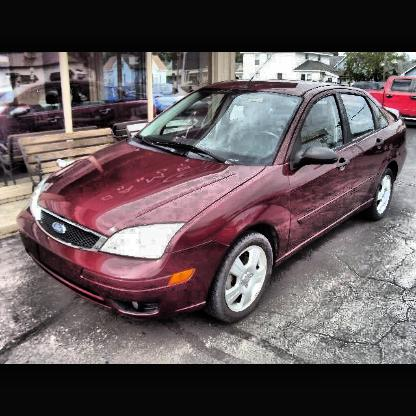Ford Focus Sedan 2007: (17, 81, 407, 325)
